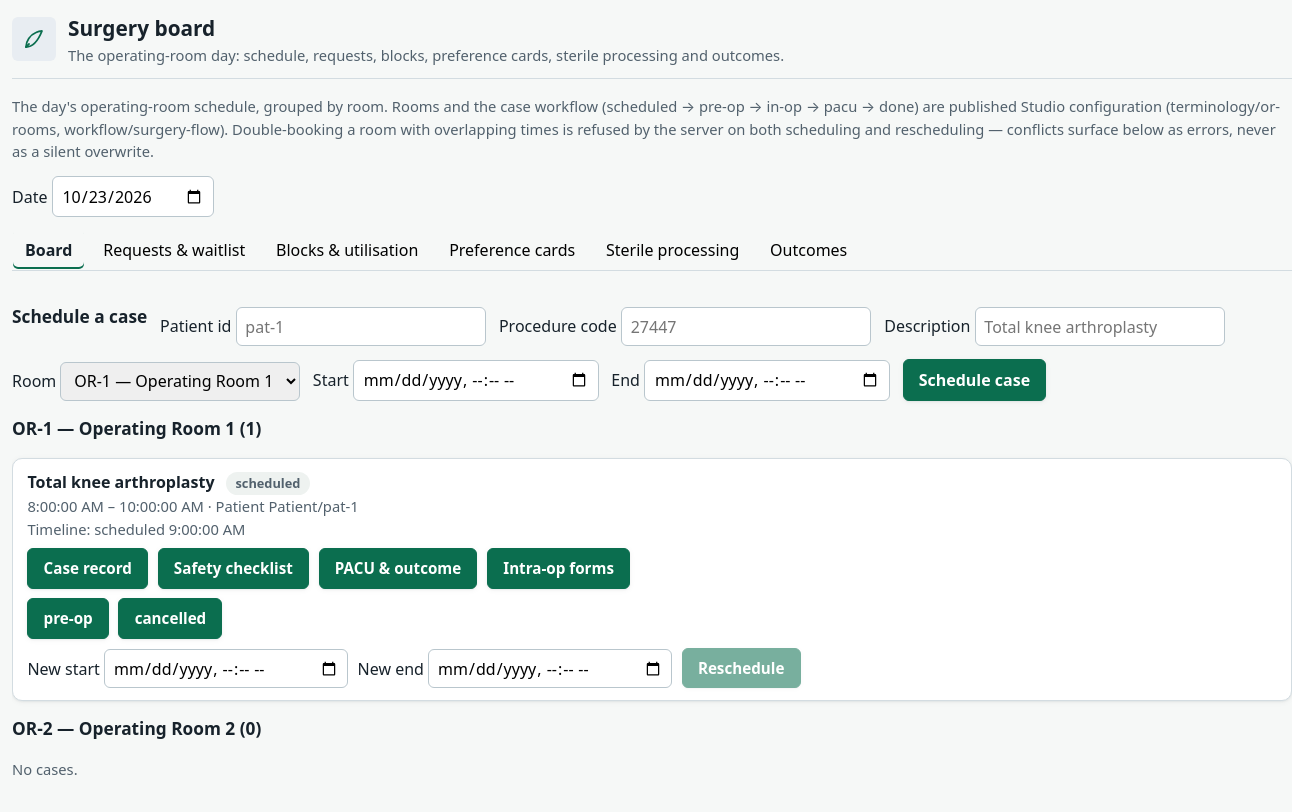
Test: SurgeryBoardPage — Phase 15 depth › requests tab renders requests with the urgency badge and the waitlist
expect the text "Total knee arthroplasty" is shown: met, box [27, 471, 214, 493]
Click the tab "Requests & waitlist" at [174, 250], box [90, 230, 258, 270]
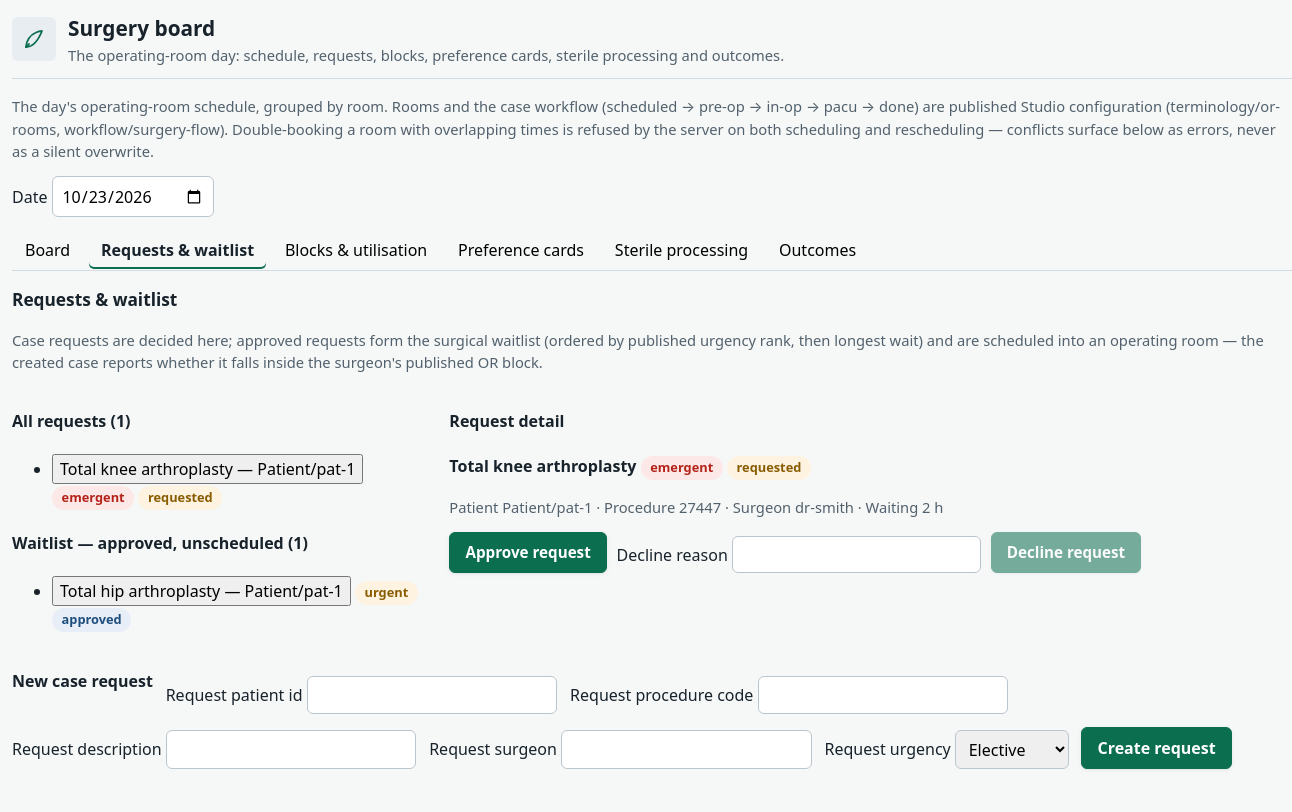
expect the text "urgent" is shown: met, box [355, 581, 418, 605]
expect the heading "Waitlist — approved, unscheduled (1)" is shown: met, box [12, 532, 308, 554]
expect the text "Surgeon dr-smith" is shown: met, box [449, 497, 943, 517]
